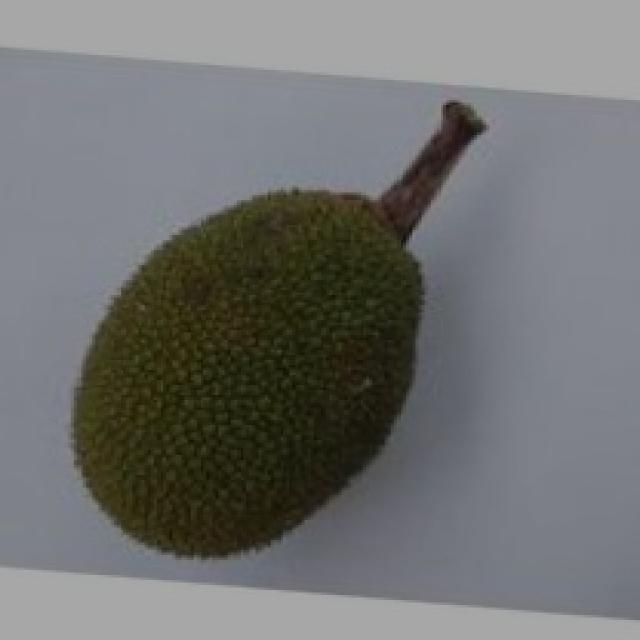Fruit: (40, 173, 458, 575)
